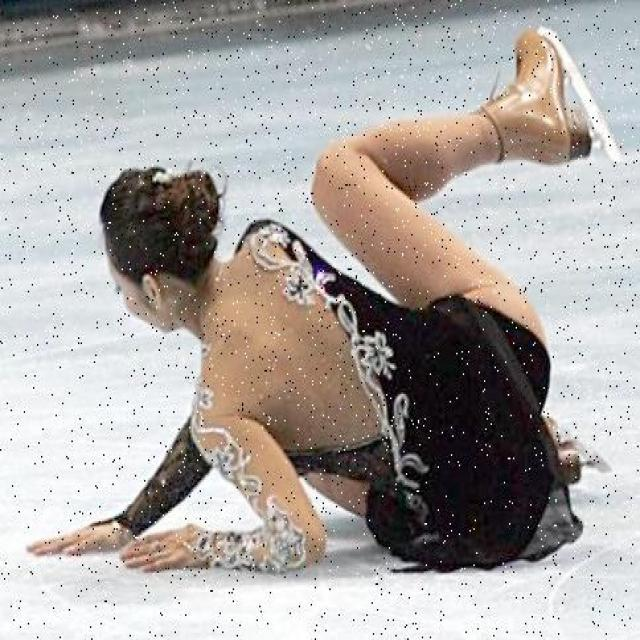fall: (77, 98, 562, 583)
